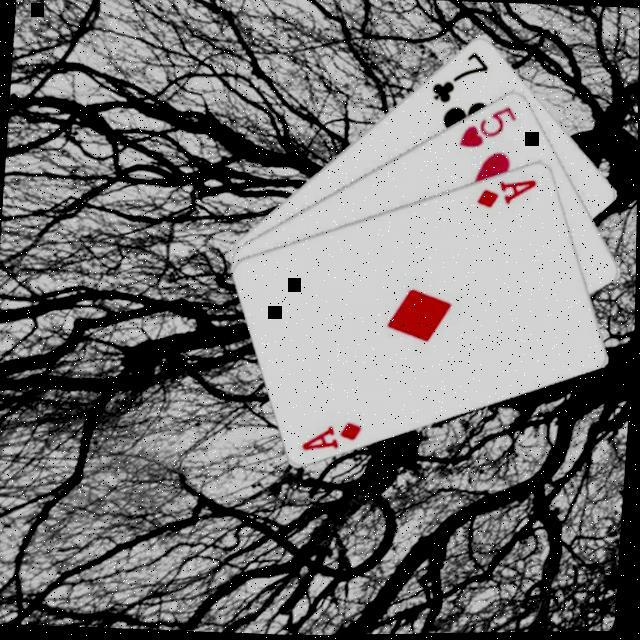5H: (454, 102, 520, 156)
7C: (426, 48, 492, 112)
AD: (472, 174, 540, 214), (299, 417, 365, 457)
